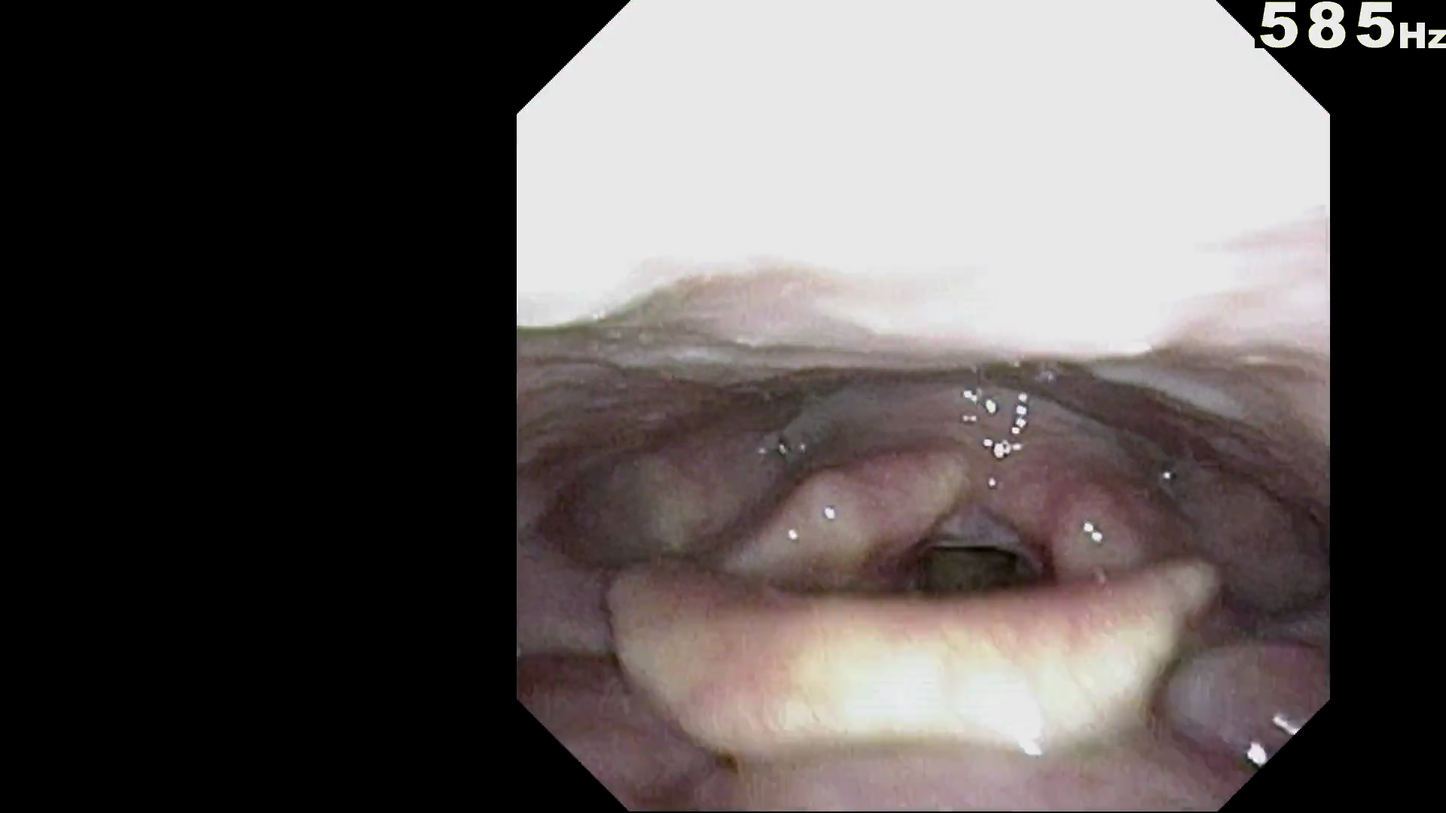epiglottis: (664, 633, 1206, 772)
trachea: (908, 548, 1036, 680)
